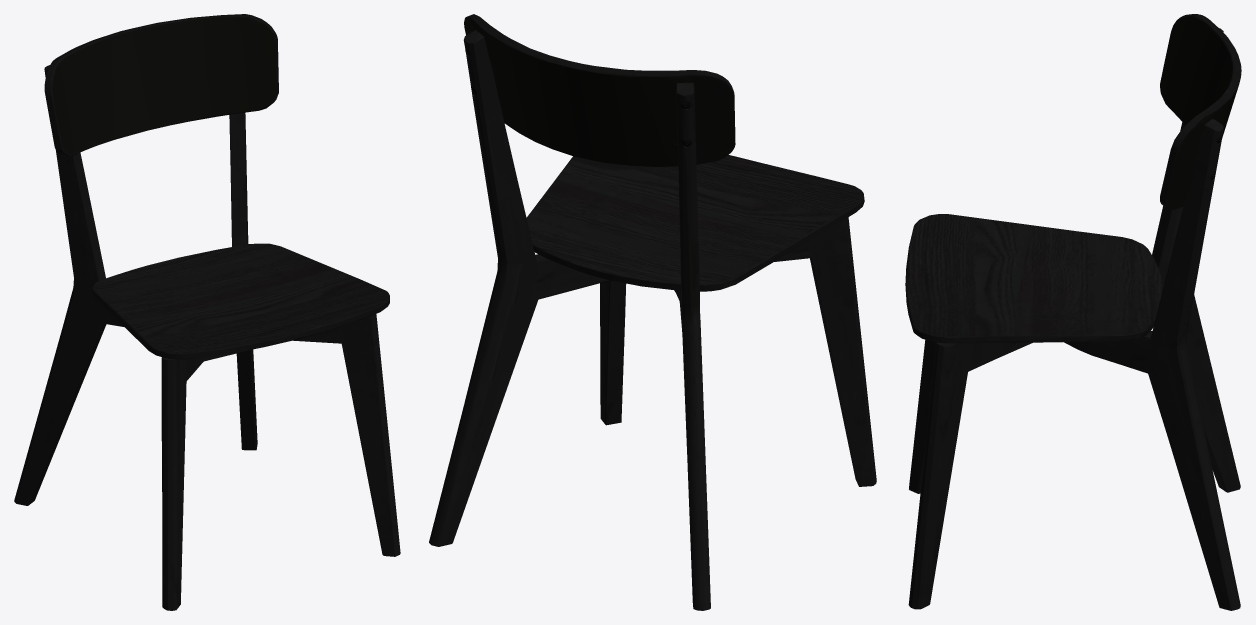
3 views of the same model, side by side, from view 1: azimuth 30°, elevation 25°; view 2: azimuth 150°, elevation 25°; view 3: azimuth 270°, elevation 25° (orthographic). The views are drawn at different scales.
Visible parts, largest first — view 1: ProcessedMeshNode; view 2: ProcessedMeshNode; view 3: ProcessedMeshNode.
Boxes of the visible parts, bbox=[...] form: ProcessedMeshNode: bbox=[14, 14, 400, 610]; ProcessedMeshNode: bbox=[429, 14, 876, 610]; ProcessedMeshNode: bbox=[905, 14, 1241, 610].
Size of the model in its own units: 0.4551 by 0.8046 by 0.5077.
1 material, 1 textured.
